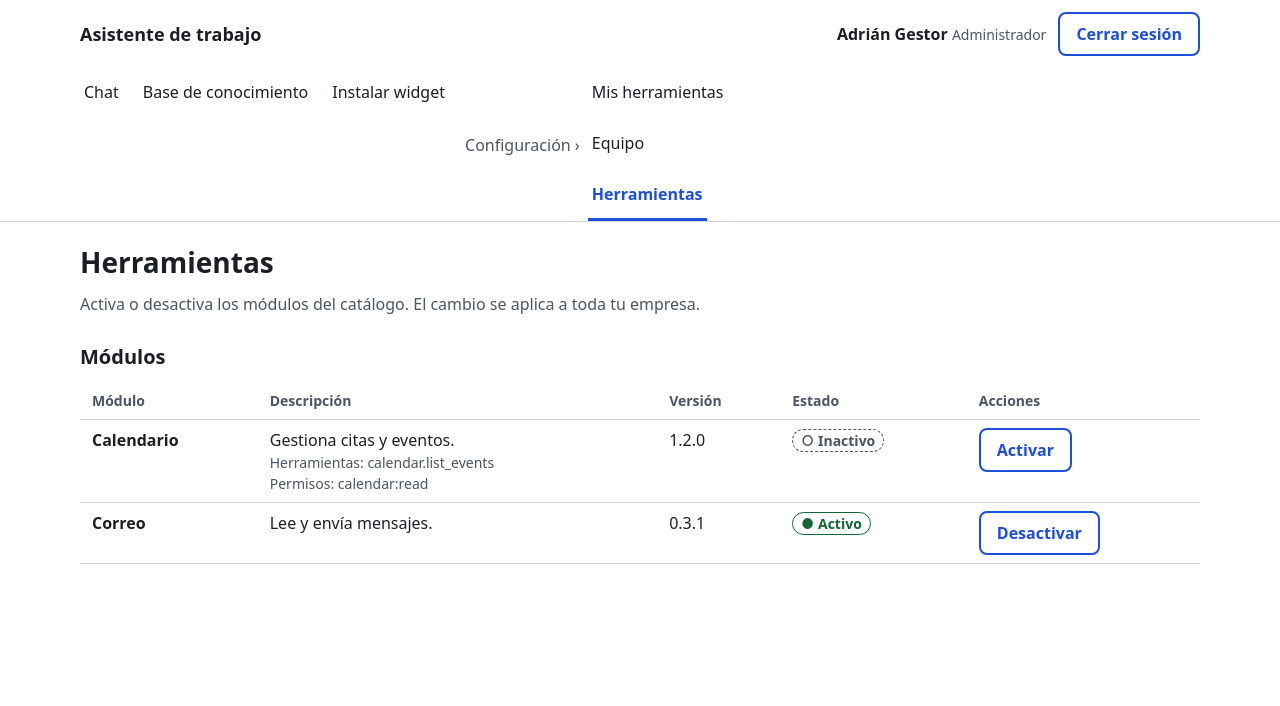
Test case: ToolsPage: activating and deactivating › explains a refused change (404) in Spanish and keeps the module inactive
Check: the table named "Módulos disponibles para tu empresa" is shown, box [80,382,1200,564]
Click the button named "Activar «Calendario»".
click(1025, 450)  # box [979,428,1072,472]
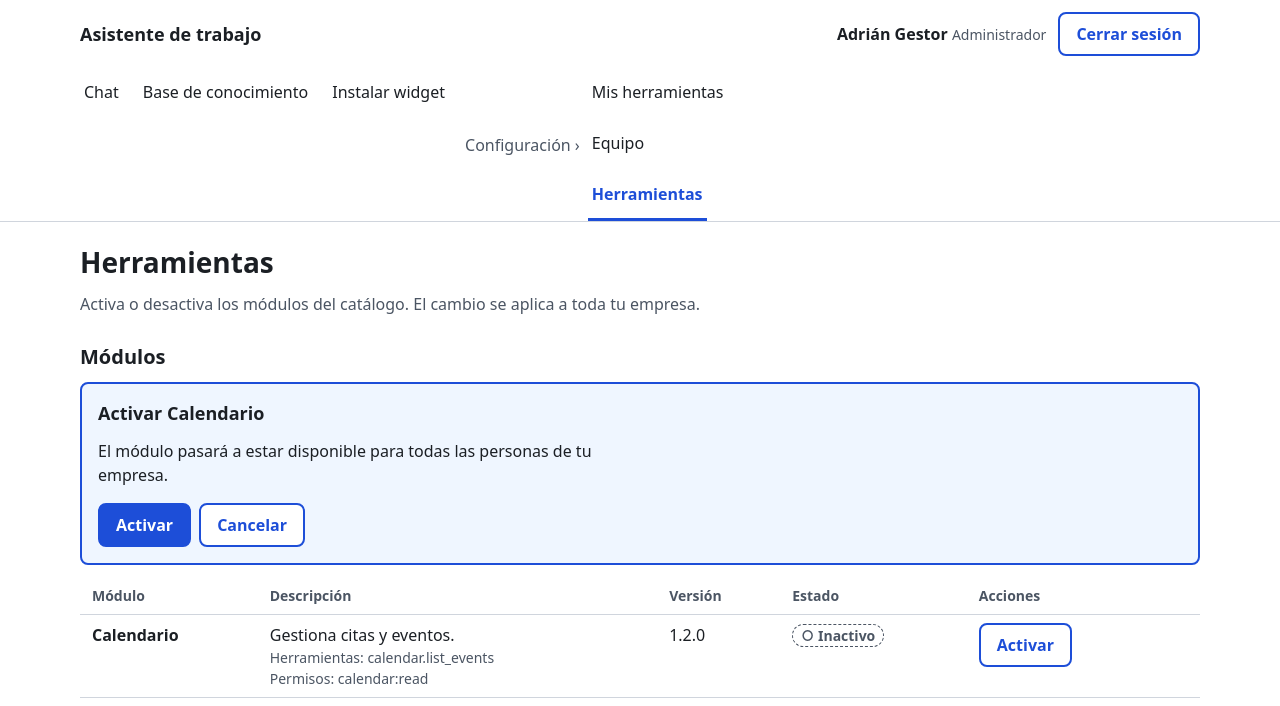
Click the button "Activar" below "Activar Calendario".
click(145, 525)  # box [98,503,191,547]
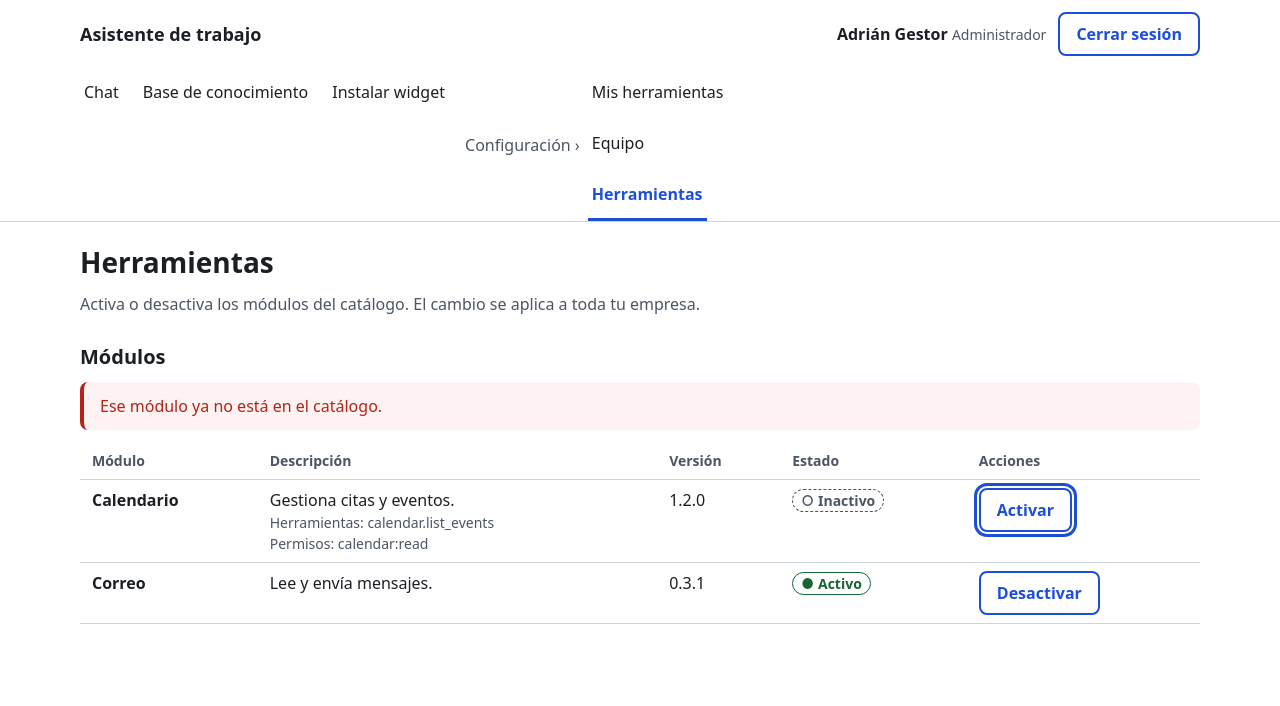
Check: the message does not show "module not found", box [80,382,1200,430]
Check: the message reads "Ese módulo ya no está en el catálogo.", box [100,395,382,417]
